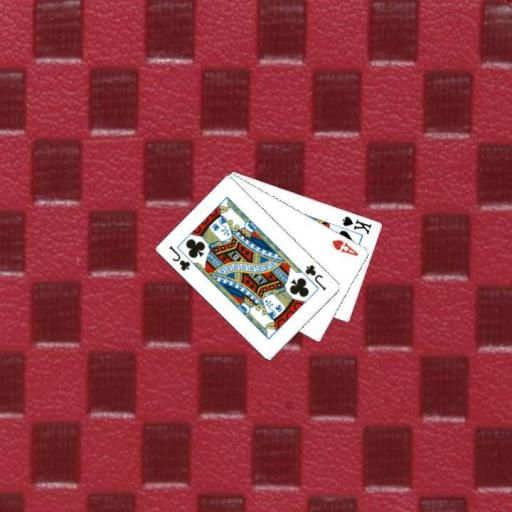AH: (328, 236, 360, 258)
JC: (302, 262, 328, 292), (166, 243, 192, 273)
KS: (340, 213, 374, 236)
